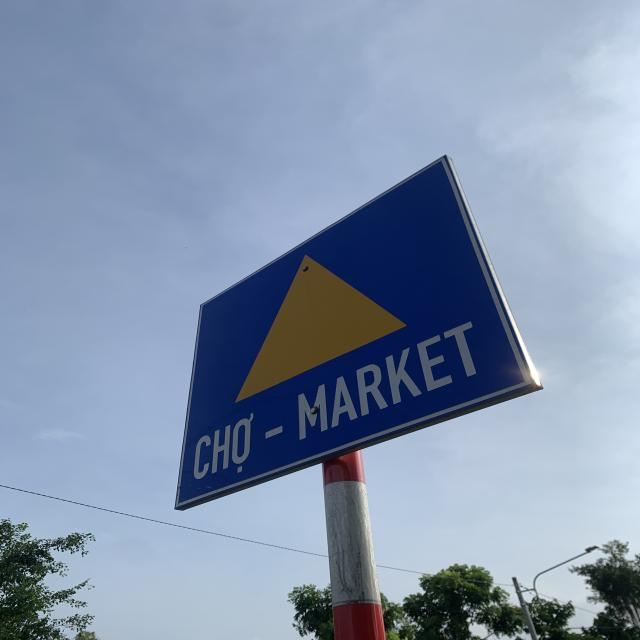Cho_Quay_Xe: (173, 158, 534, 508)
